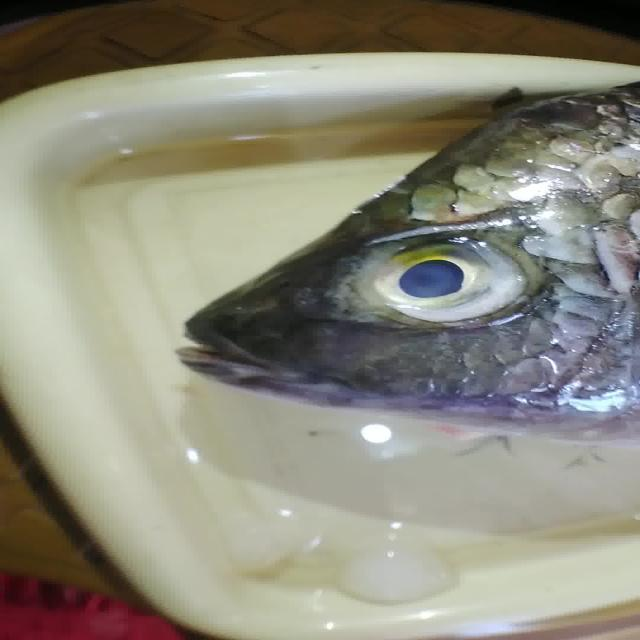Fresh: (328, 231, 559, 340)
